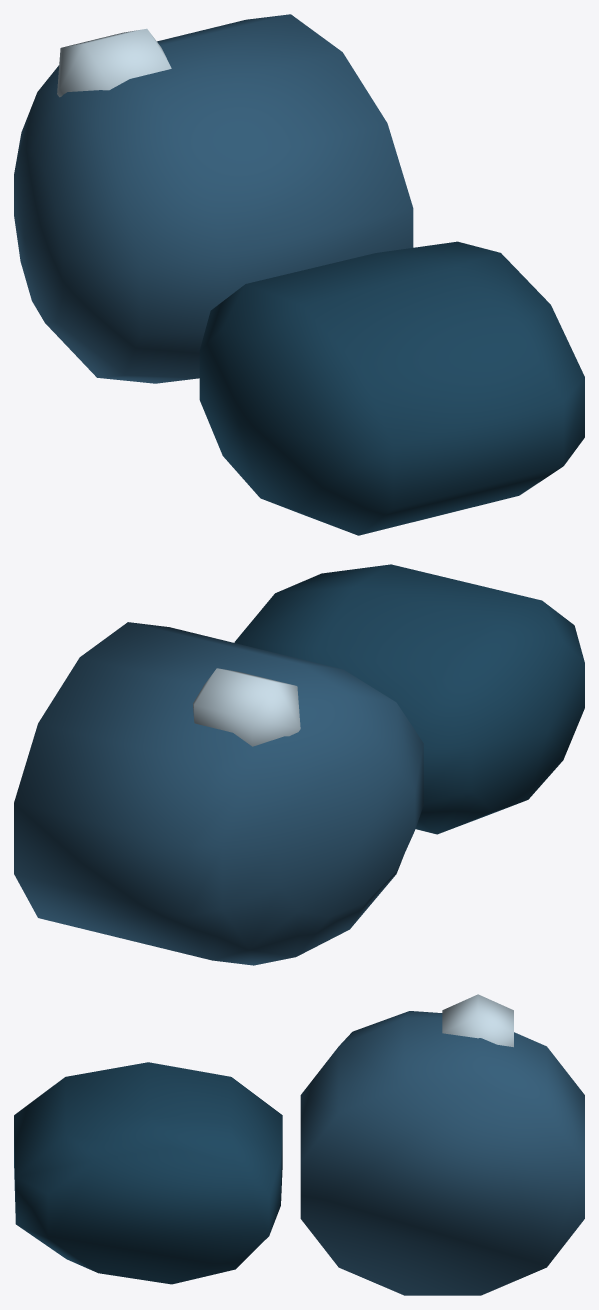
The model's file is newshc-238.glb.
3 renders of one model, top to bottom at view 1: azimuth 30°, elevation 25°; view 2: azimuth 150°, elevation 25°; view 3: azimuth 270°, elevation 25°, orthographic. The views are drawn at different scales.
Parts seen in each view (by area): view 1: newshc-238; view 2: newshc-238; view 3: newshc-238.
Part boxes in pixels (bbox=[...]): newshc-238: bbox=[14, 14, 584, 535]; newshc-238: bbox=[14, 564, 584, 965]; newshc-238: bbox=[14, 994, 584, 1295].
Bounding box in the file's own units: 0.3537 × 0.3542 × 0.8081.
